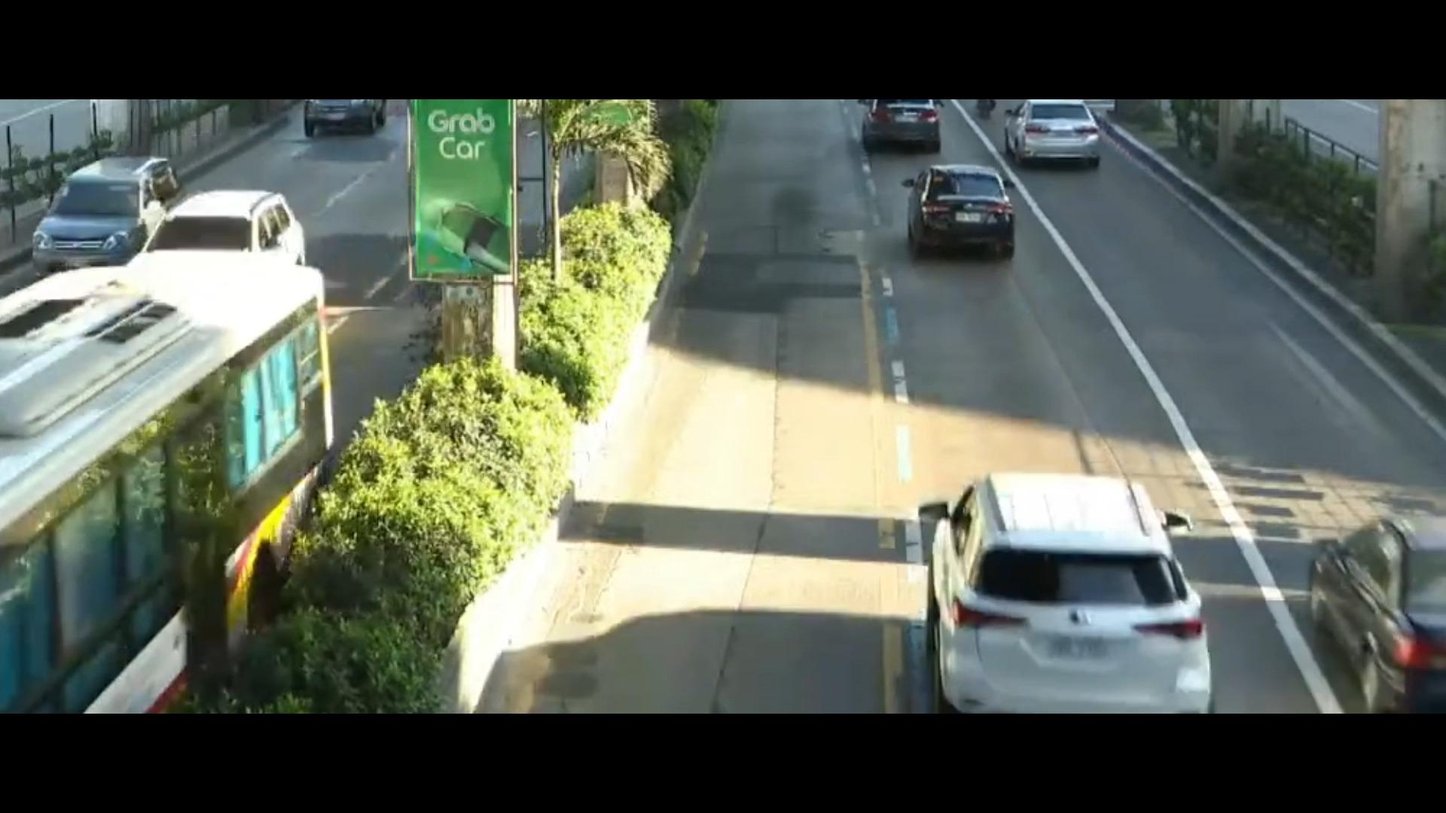Bus: (0, 264, 349, 717)
SUV: (925, 442, 1233, 705), (23, 136, 184, 266), (142, 184, 324, 262)
Sedan: (1271, 487, 1446, 709), (895, 144, 1025, 270), (992, 101, 1125, 171)
